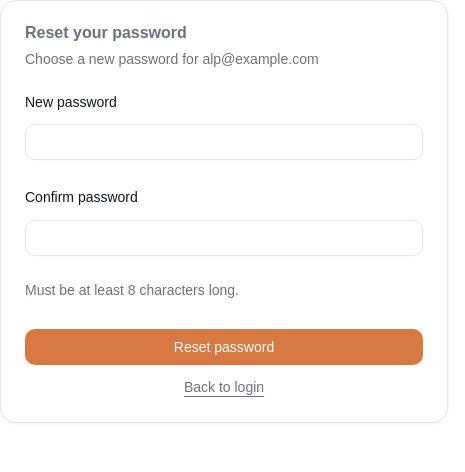
Test: ResetPasswordForm › enforces the minimum password length
In the password field labelled "New password": (224, 142) [25,124,423,160], type "short"
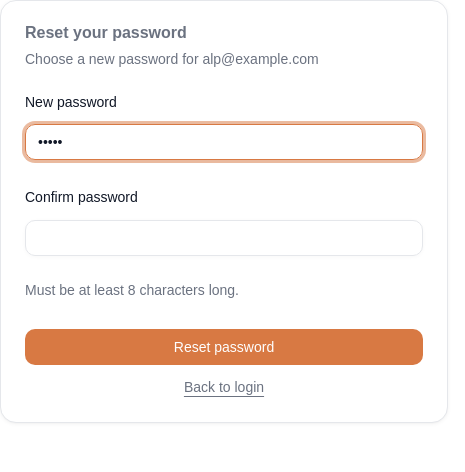
In the password field labelled "Confirm password": (224, 238) [25,220,423,256], type "short"
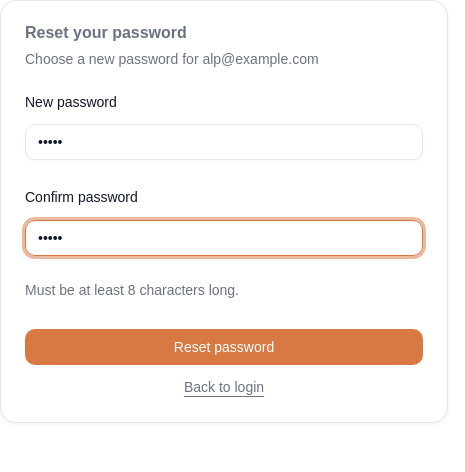
Click the button "Reset password": (224, 346) [25,328,423,364]
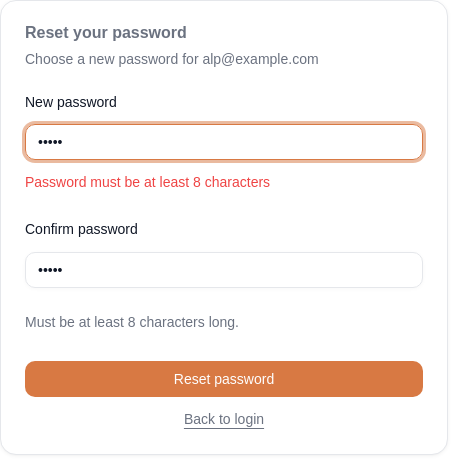
expect the text "Password must be at least 8 characters" is shown: met, box [25,174,270,190]
